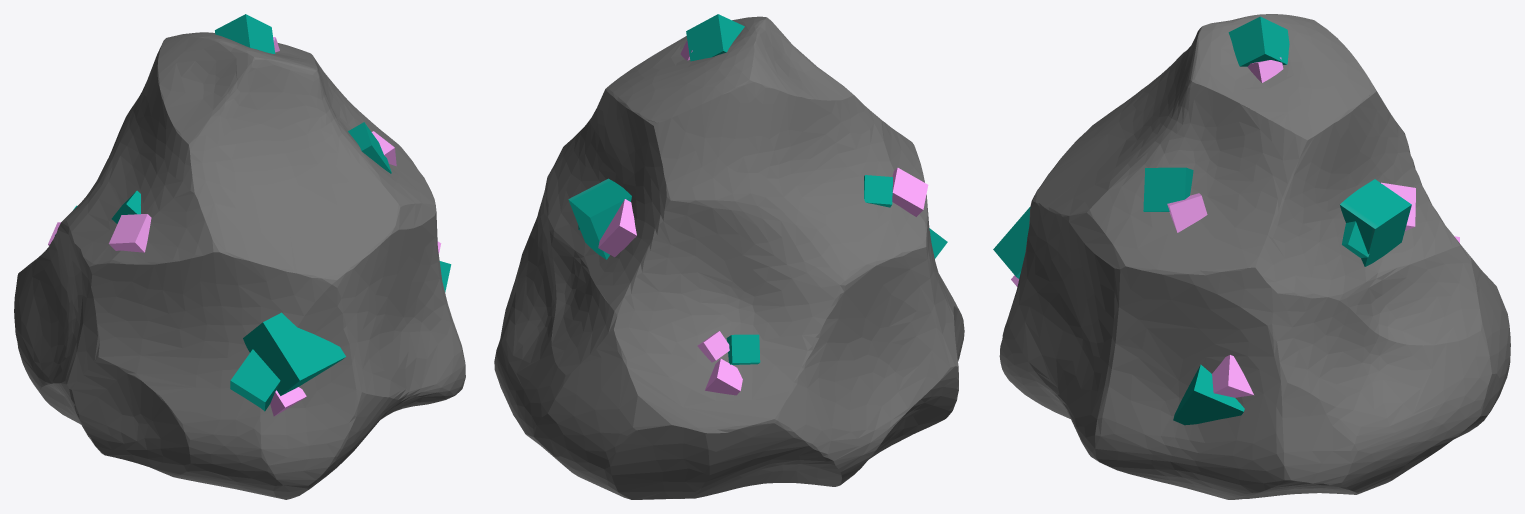
File: SeaGlassDeposite_Mod.fbx
3 views of the same model, side by side, from view 1: azimuth 30°, elevation 25°; view 2: azimuth 150°, elevation 25°; view 3: azimuth 270°, elevation 25° (orthographic). The views are drawn at different scales.
Parts seen in each view (by area): view 1: Rock; view 2: Rock; view 3: Rock.
Boxes of the visible parts, x1,y1,x2,y2 form: Rock: (14, 14, 465, 499); Rock: (494, 14, 964, 499); Rock: (993, 14, 1510, 499).
Size of the model in its own units: 380 by 388 by 407.
